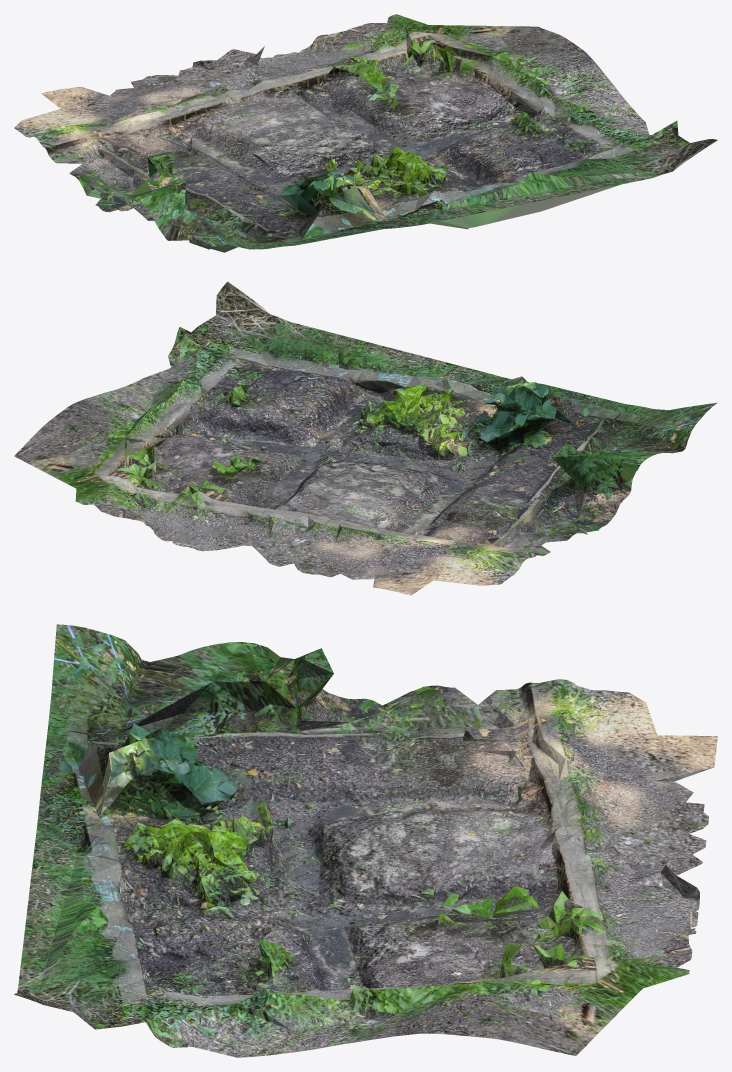
The model's file is garden_3000faces.glb.
3 renders of one model, top to bottom at view 1: azimuth 30°, elevation 25°; view 2: azimuth 150°, elevation 25°; view 3: azimuth 270°, elevation 25°, orthographic. The views are drawn at different scales.
Bounding box in the file's own units: 37.91 × 4.81 × 31.01.
Materials: 1 (1 with a texture image).
